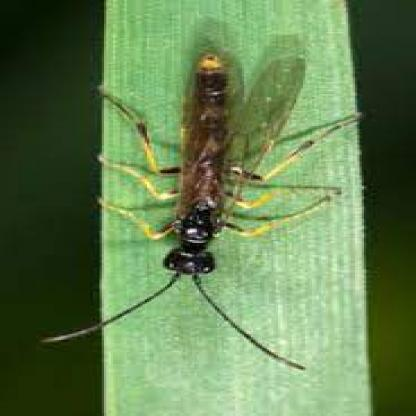sawfly: (36, 43, 368, 370)
